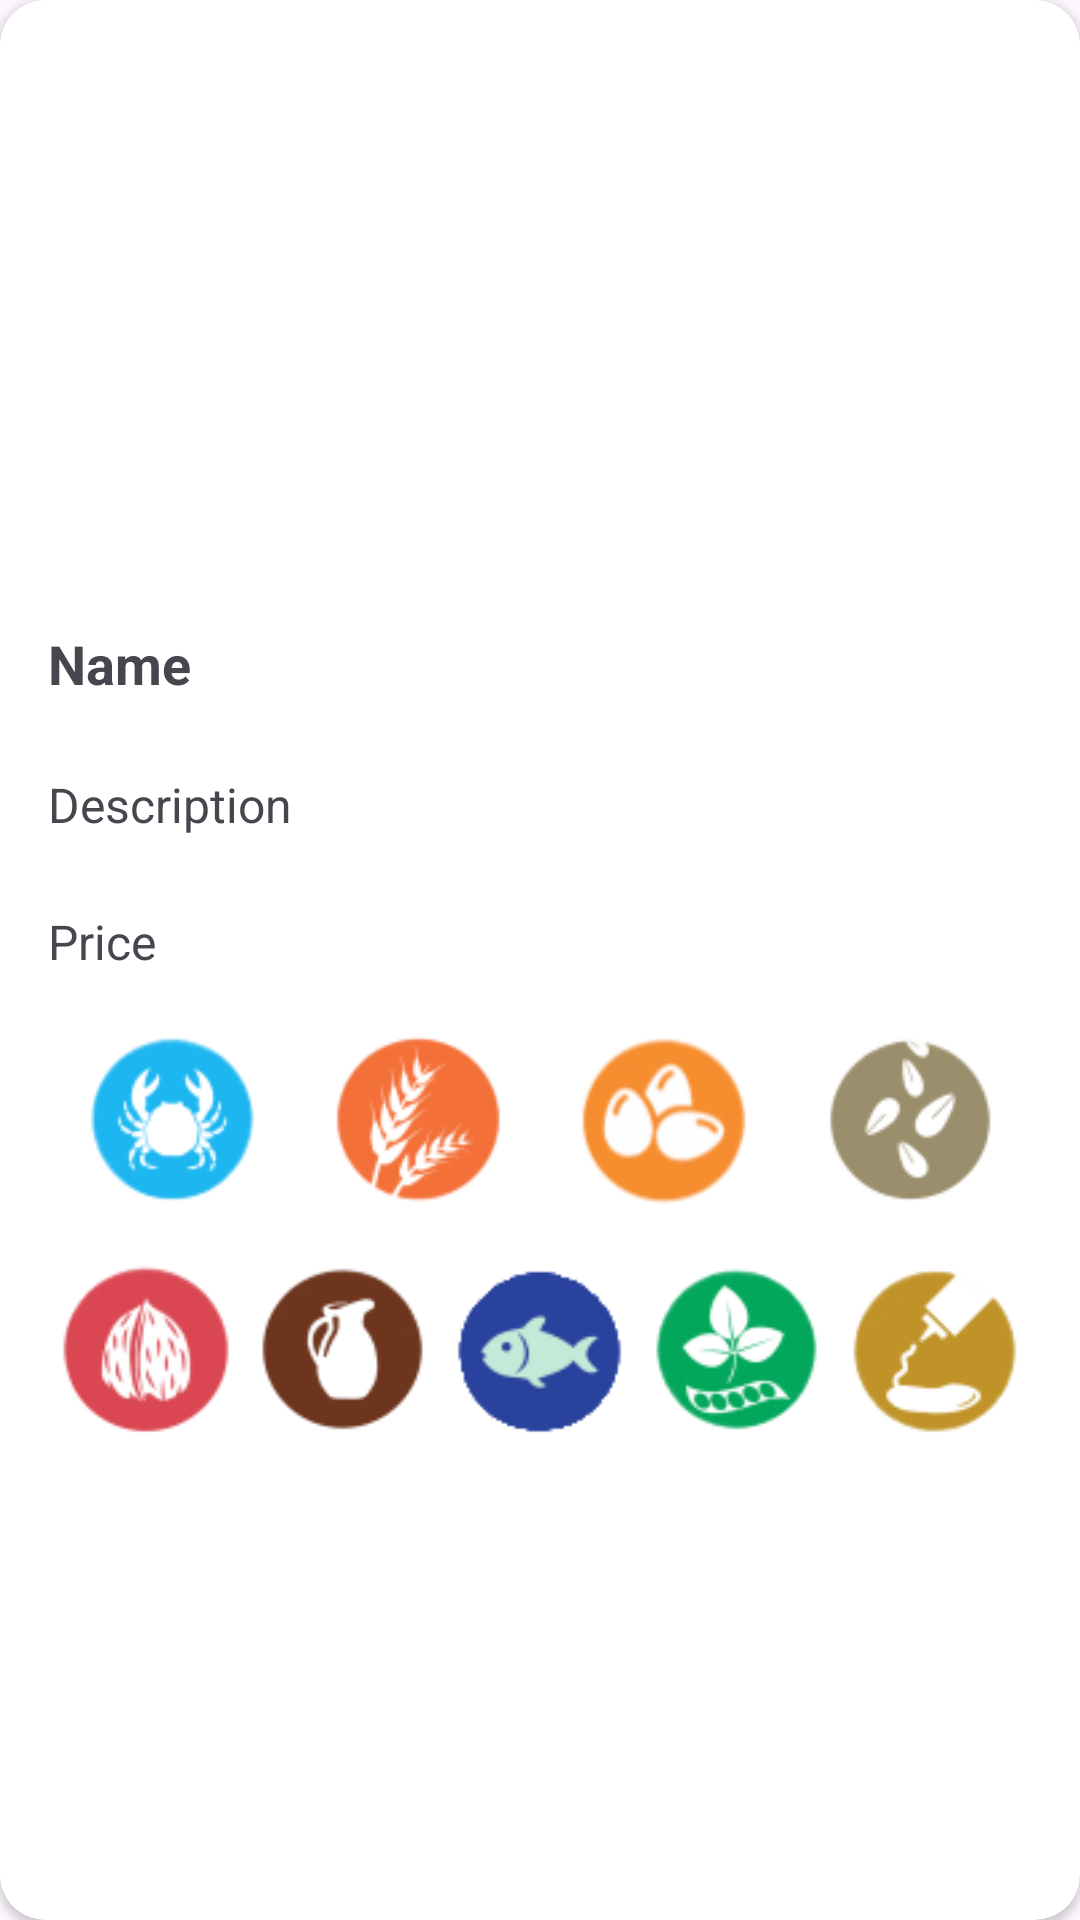

Icons on this 1080 × 1920 Android screen, each with its box as (x1, y1, x2, y2):
crustacean: (91, 1038, 254, 1200)
dairy: (262, 1269, 423, 1430)
egg: (582, 1039, 746, 1204)
fish: (458, 1271, 621, 1432)
gluten: (336, 1038, 500, 1201)
mustard: (853, 1271, 1017, 1432)
nuts: (63, 1267, 229, 1432)
sesame: (830, 1041, 991, 1200)
soy: (656, 1269, 817, 1430)
